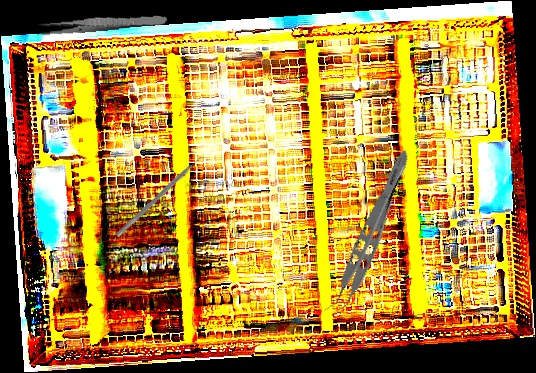Dressing Forceps: (35, 11, 168, 37)
Spatula Surgical: (115, 150, 209, 242)
Tissue Forceps: (321, 142, 415, 322)
